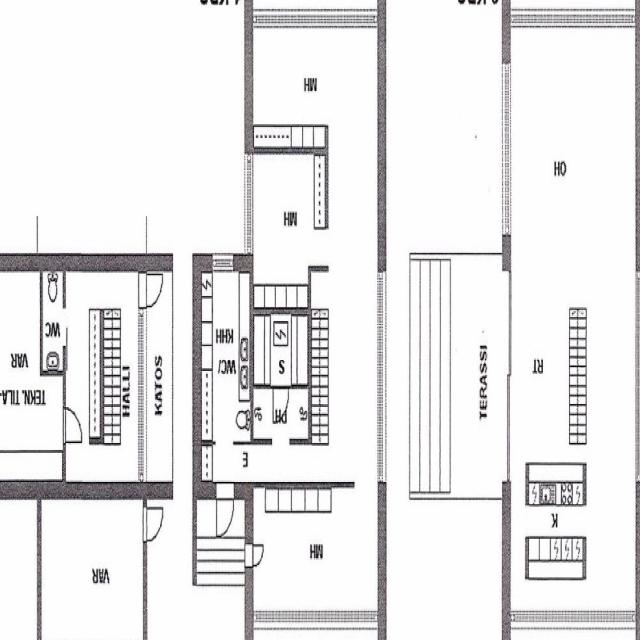door: (216, 482, 234, 536), (139, 274, 162, 307), (62, 408, 82, 443), (143, 509, 162, 541), (273, 386, 289, 423), (245, 544, 263, 566)
